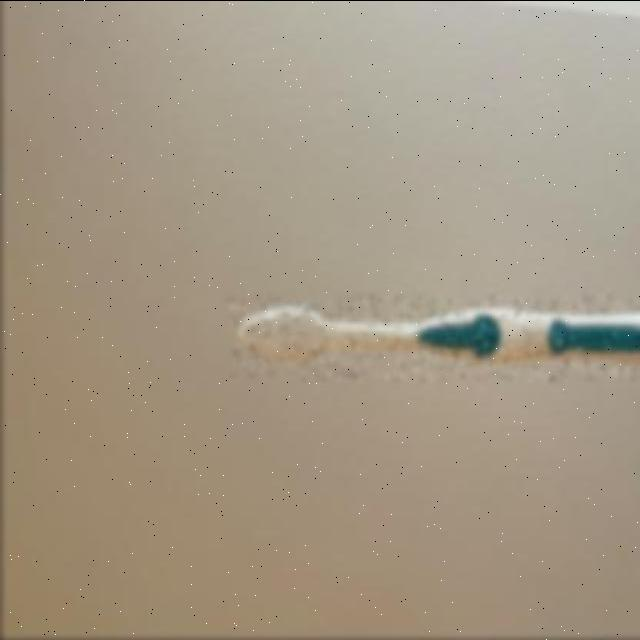toothbrush: (226, 297, 640, 381)
